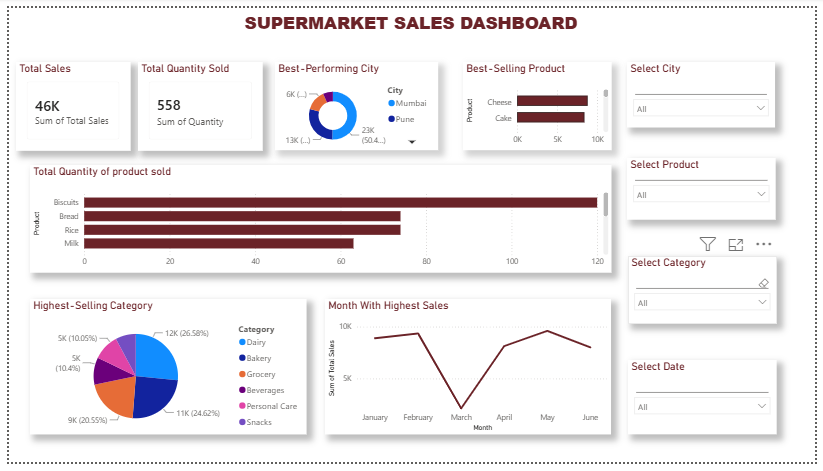

Layout of this report page (visuals, bound fields, positions):
{"tool":"powerbi","page":{"name":"Page 1","canvas":[1280,720],"ordinal":0},"visuals":[{"type":"textbox","box":[11.5,0,1250.8,59],"z":0},{"type":"cardVisual","title":"Total Sales","fields":{"Data":["Sum(sales_data.Total Sales)"]},"box":[11.5,85.2,182,141],"z":1000},{"type":"cardVisual","title":"Total Quantity Sold","fields":{"Data":["Sum(sales_data.Quantity)"]},"box":[204.9,85.2,198.4,141],"z":2000},{"type":"clusteredBarChart","title":"Best-Selling Product","fields":{"Category":["sales_data.Product"],"Y":["Sum(sales_data.Total Sales)"]},"box":[720.7,85.9,235.9,140.2],"z":3000},{"type":"pieChart","title":"Highest-Selling Category","fields":{"Category":["sales_data.Category"],"Y":["Sum(sales_data.Total Sales)"]},"box":[33.3,461.1,438.9,214.8],"z":4000},{"type":"lineChart","title":"Month With Highest Sales","fields":{"Category":["sales_data.Date.Variation.Date Hierarchy.Month"],"Y":["Sum(sales_data.Total Sales)"]},"box":[501.9,461.1,453.7,214.8],"z":5000},{"type":"donutChart","title":"Best-Performing City","fields":{"Category":["sales_data.City"],"Y":["Sum(sales_data.Total Sales)"]},"box":[421.7,85.9,258.7,140.2],"z":6000},{"type":"barChart","title":"Total Quantity of product sold","fields":{"Category":["sales_data.Product"],"Y":["Sum(sales_data.Quantity)"]},"box":[33.9,250,923.2,171.4],"z":7000},{"type":"slicer","title":"Select City","fields":{"Values":["sales_data.City"]},"box":[981.5,86.2,235.3,103.5],"z":8000},{"type":"slicer","title":"Select Product","fields":{"Values":["sales_data.Product"]},"box":[981.5,238.5,236.5,97.6],"z":9000},{"type":"slicer","title":"Select Category","fields":{"Values":["sales_data.Category"]},"box":[983.1,393.8,236.5,107.1],"z":10000},{"type":"slicer","title":"Select Date","fields":{"Values":["sales_data.Date"]},"box":[983.1,558.5,235.8,118.3],"z":11000}]}

Visuals, with their boxes in screenshot pixels (x1, y1, x2, y2), scaled from the page's 1280x720 canvas onto the 823x471 screenshot:
textbox: BBox(7, 0, 812, 39)
"Total Sales" cardVisual: BBox(7, 56, 124, 148)
"Total Quantity Sold" cardVisual: BBox(132, 56, 259, 148)
"Best-Selling Product" clusteredBarChart: BBox(463, 56, 615, 148)
"Highest-Selling Category" pieChart: BBox(21, 302, 304, 442)
"Month With Highest Sales" lineChart: BBox(323, 302, 614, 442)
"Best-Performing City" donutChart: BBox(271, 56, 437, 148)
"Total Quantity of product sold" barChart: BBox(22, 164, 615, 276)
"Select City" slicer: BBox(631, 56, 782, 124)
"Select Product" slicer: BBox(631, 156, 783, 220)
"Select Category" slicer: BBox(632, 258, 784, 328)
"Select Date" slicer: BBox(632, 365, 784, 443)
